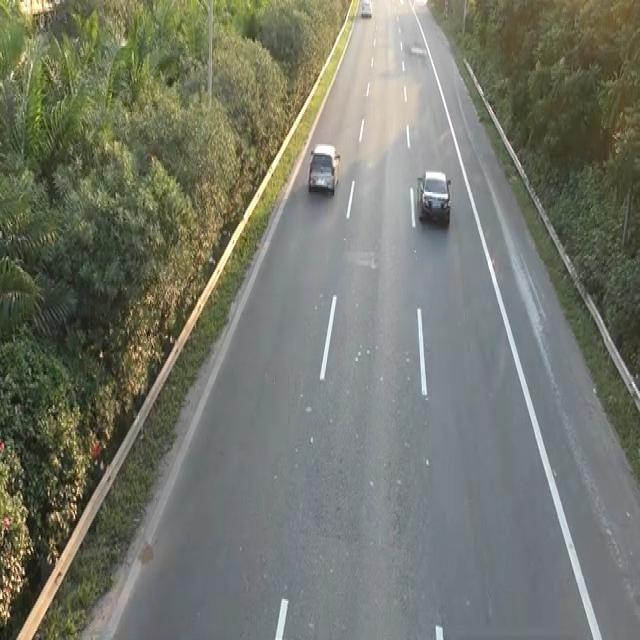bus: (414, 165, 455, 233), (306, 140, 341, 196)
